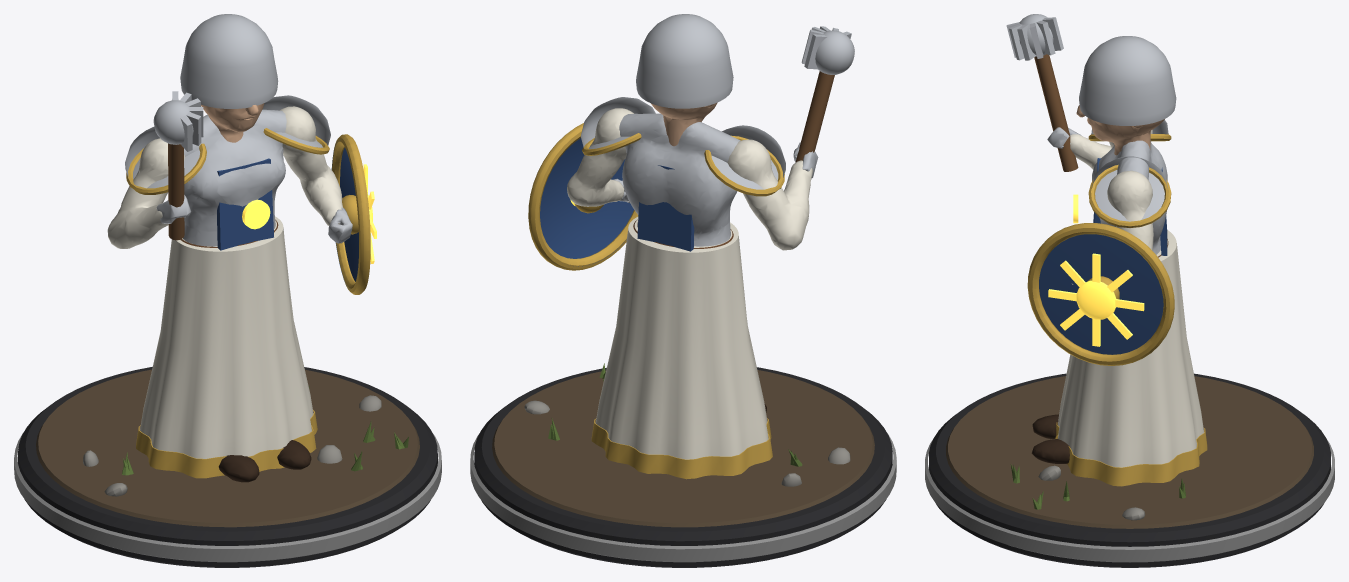
The model's file is cleric.glb.
The picture shows the model from 3 angles, left to right: view 1: azimuth 30°, elevation 25°; view 2: azimuth 150°, elevation 25°; view 3: azimuth 270°, elevation 25°; orthographic projection. The views are drawn at different scales.
Parts seen in each view (by area): view 1: cleric; view 2: cleric; view 3: cleric.
Boxes of the visible parts, x1,y1,x2,y2 form: cleric: [14, 14, 441, 567]; cleric: [470, 14, 896, 567]; cleric: [925, 14, 1334, 567].
Size of the model in its own units: 0.856 by 1.02 by 0.8551.
